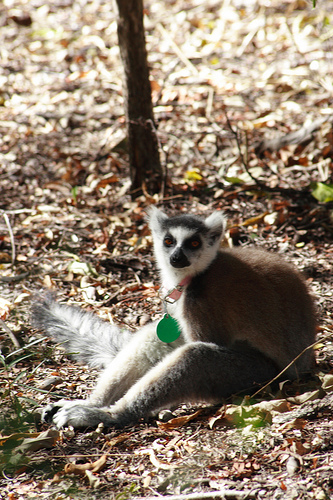cat: (21, 194, 324, 430)
